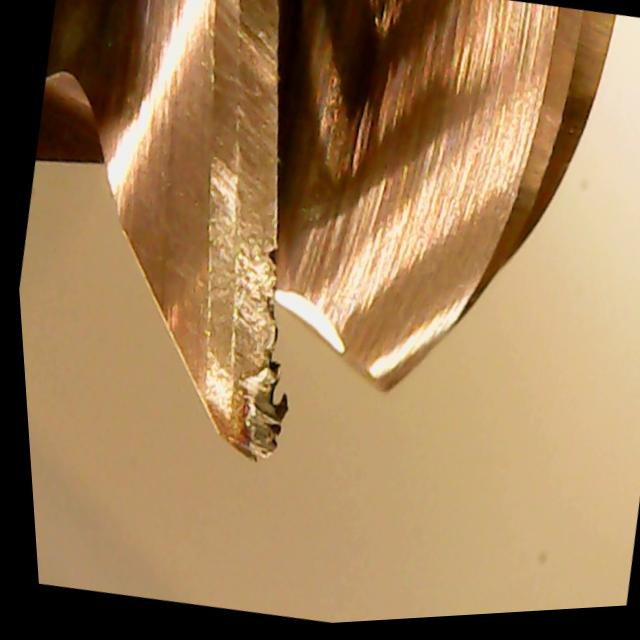Tool-wear-class-1: (159, 168, 330, 479)
